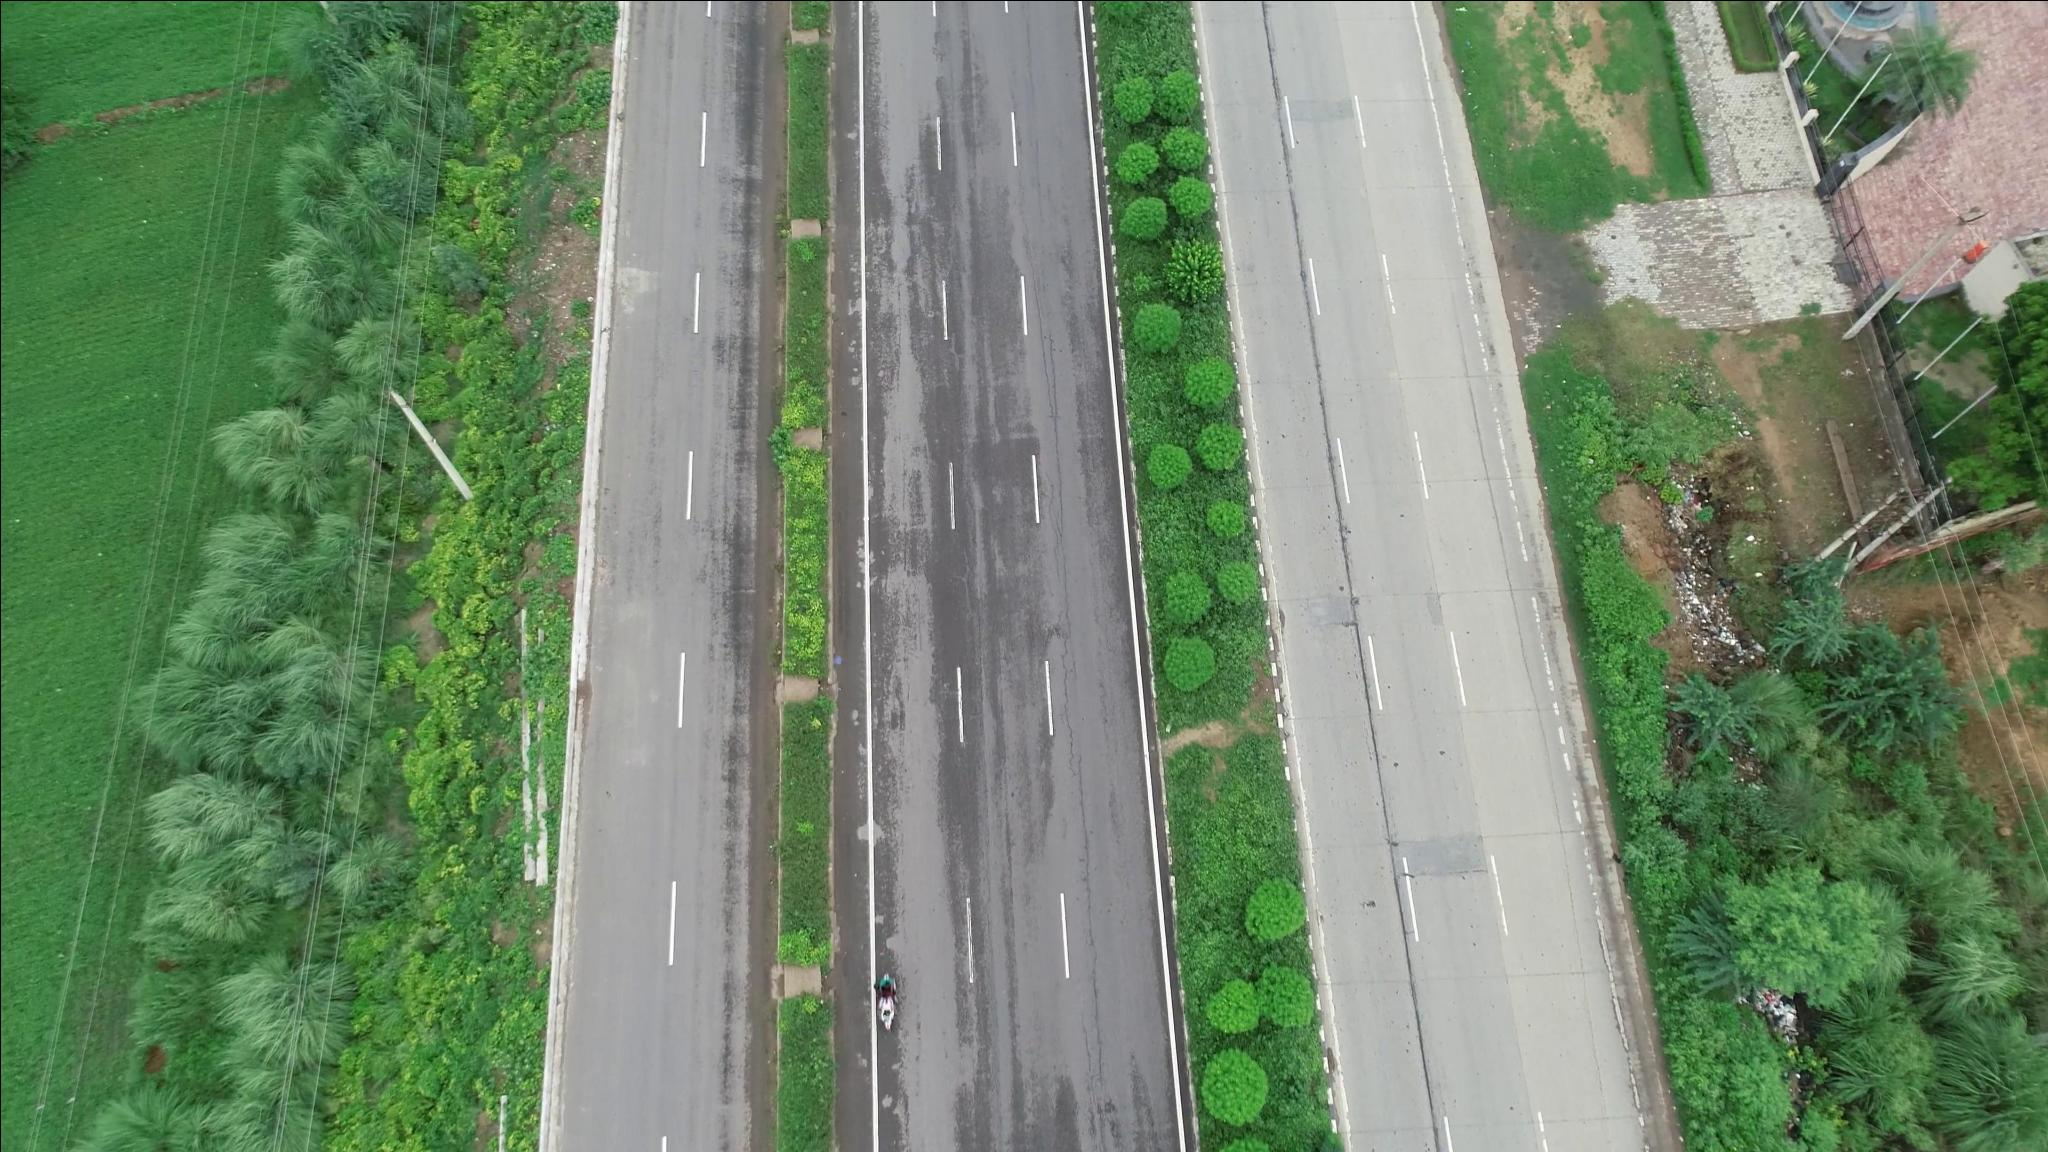Cracks: (1041, 346, 1089, 771)
Ravelling: (878, 492, 937, 665), (909, 166, 947, 387)
